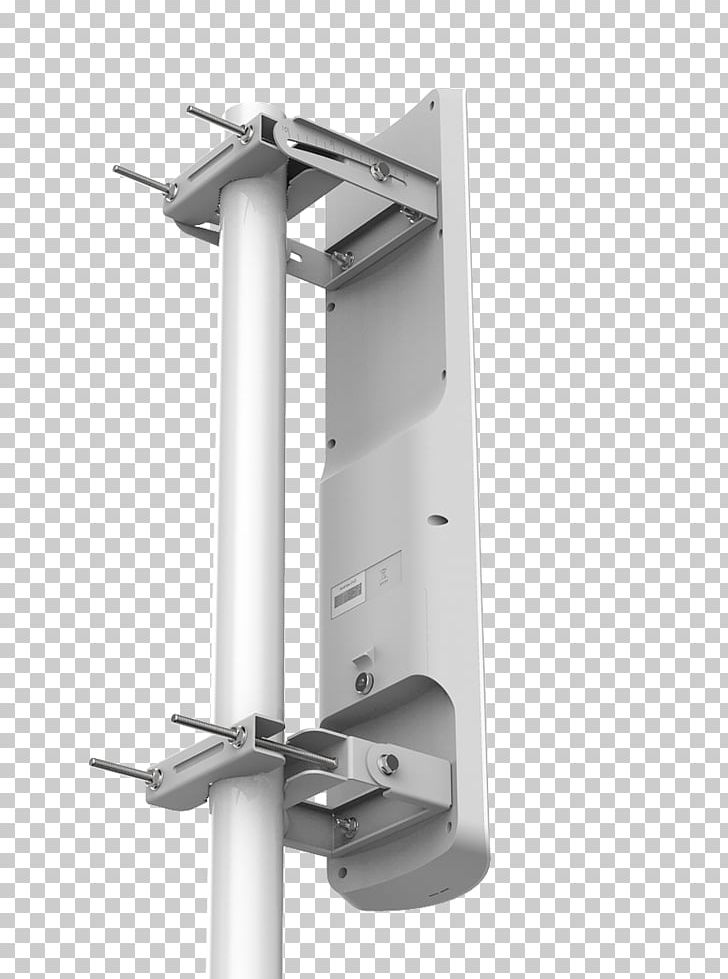sa: (171, 76, 531, 914)
